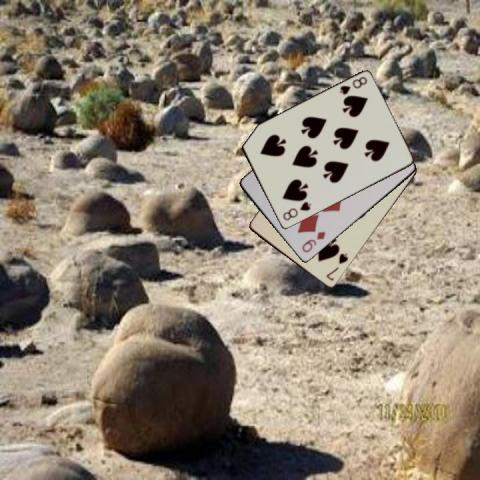7s: (324, 250, 350, 283)
8s: (279, 199, 313, 222), (336, 74, 369, 97)
9d: (298, 228, 326, 255)
